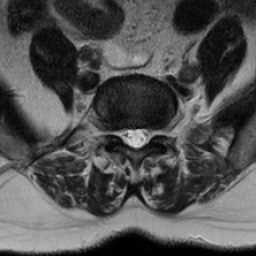CCS_normal: (132, 117, 141, 156)
LFS_stenosis: (150, 119, 161, 146)
LLS_normal: (141, 117, 150, 150)
RFS_severe_stenosis: (107, 121, 121, 142)
RLS_normal: (121, 119, 132, 150)
